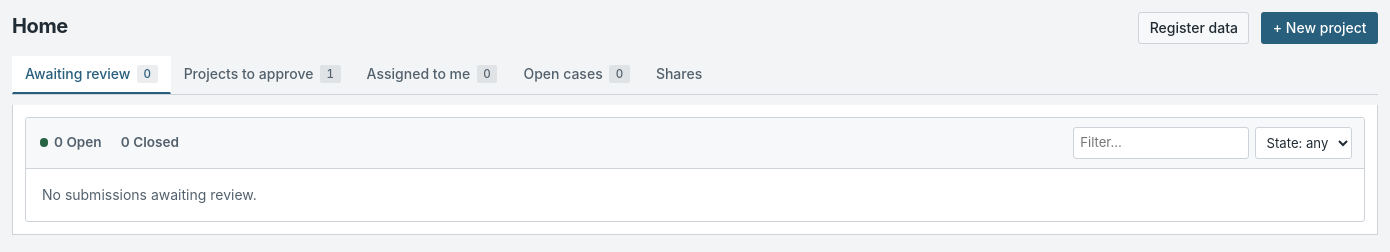
Scenario: HomePage › switches to shares without leaving a second panel mounted
Expected: the heading "Home" is shown, [12,13,68,39]
Expected: the text "Live public shares" is not shown
Click the tab "Shares": (679, 75) [643,56,715,94]
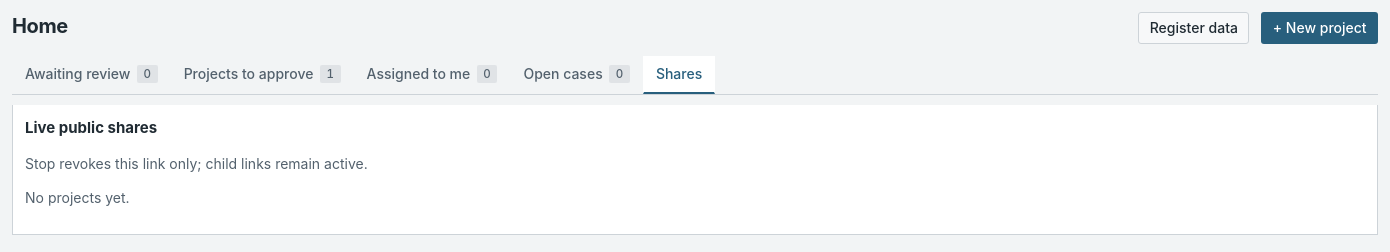
Expected: the heading "Live public shares" is shown, [25,118,157,137]
